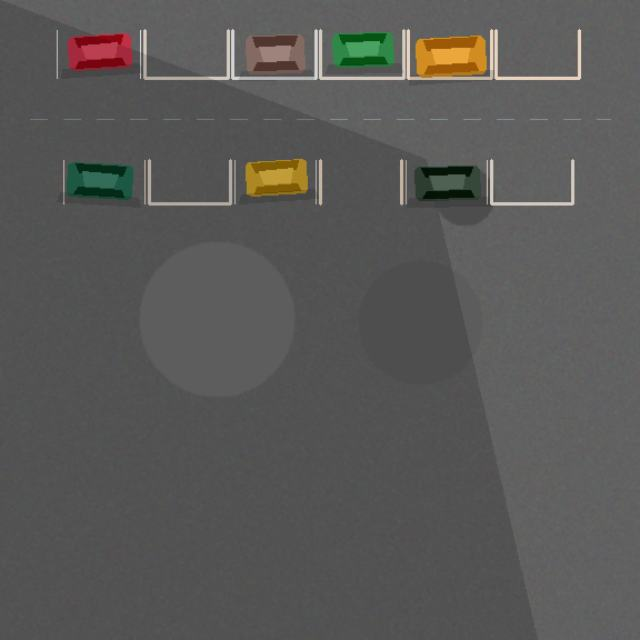space-empty: (144, 30, 228, 78), (496, 30, 579, 78), (149, 160, 230, 203), (320, 160, 401, 203), (491, 160, 572, 203)
space-occupied: (232, 30, 316, 78), (57, 30, 140, 78), (320, 30, 403, 78), (408, 30, 491, 78), (234, 160, 316, 203), (63, 160, 144, 203), (406, 160, 487, 203)
